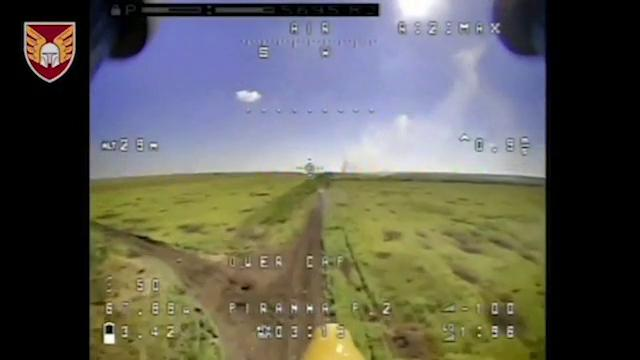tank: (313, 187, 328, 209)
